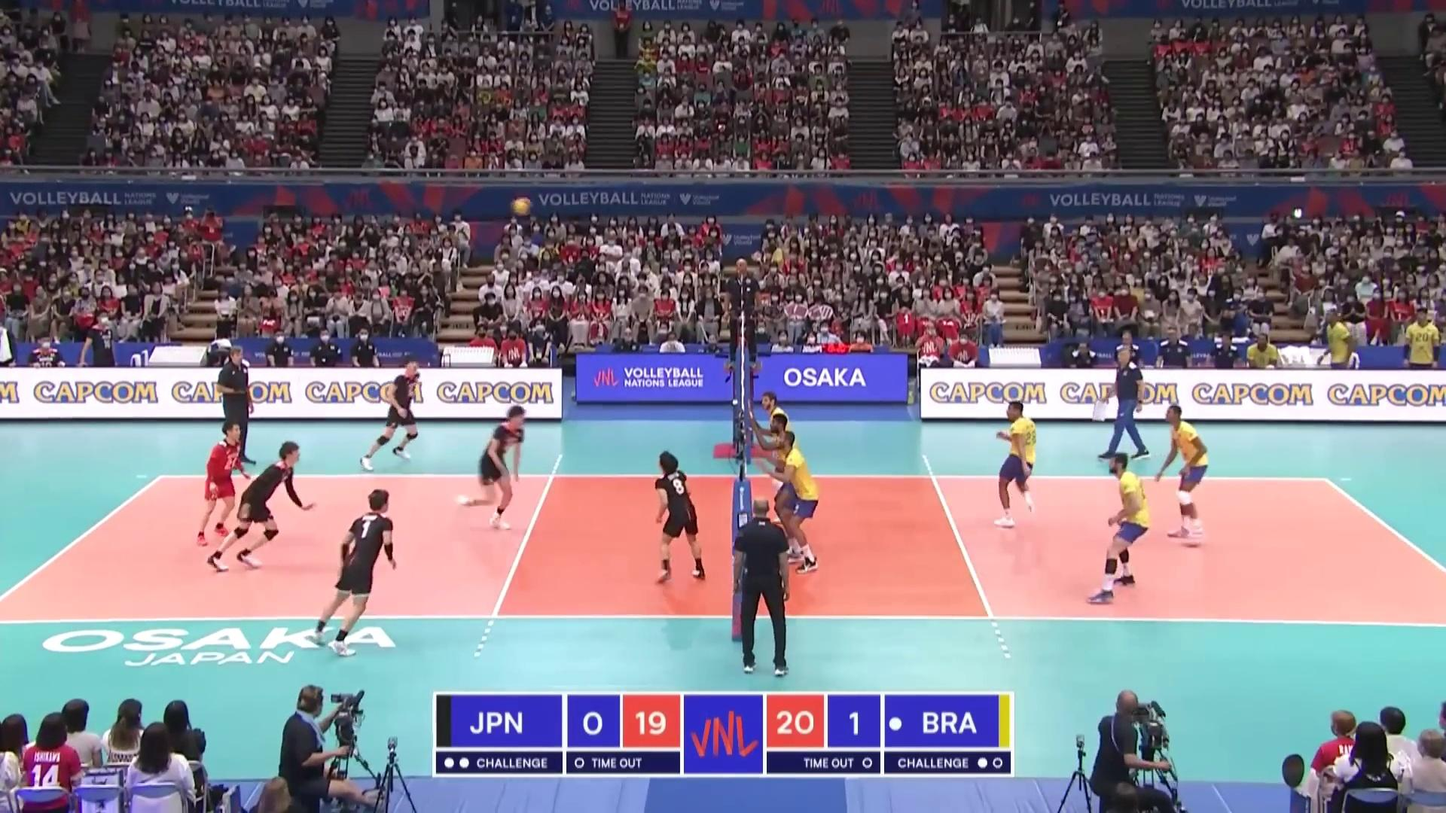player: (297, 491, 397, 656), (209, 443, 313, 571), (1090, 452, 1149, 606), (1153, 405, 1212, 550), (461, 405, 526, 530), (767, 432, 820, 570), (650, 452, 705, 583), (361, 356, 421, 468), (755, 413, 799, 556), (993, 401, 1040, 528), (199, 422, 247, 544), (760, 392, 798, 526)
refree: (731, 496, 792, 675), (725, 258, 762, 371)
